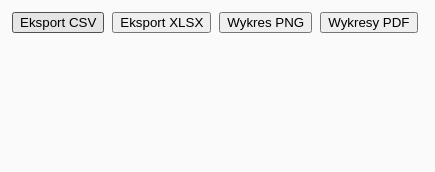
Test case: ExportBar › reports network errors in Polish and downloads on success
Click the button "Eksport CSV": (58, 22) [12,12,104,33]
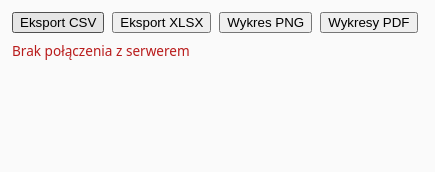
Expected: the message reads "Brak połączenia z serwerem", [12,41,190,60]
Click the button "Eksport CSV": (58, 22) [12,12,104,33]
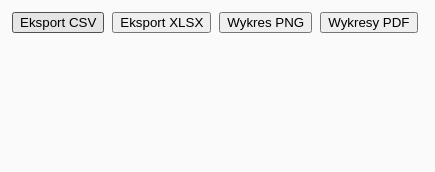
Expected: the message "Brak połączenia z serwerem" is gone
